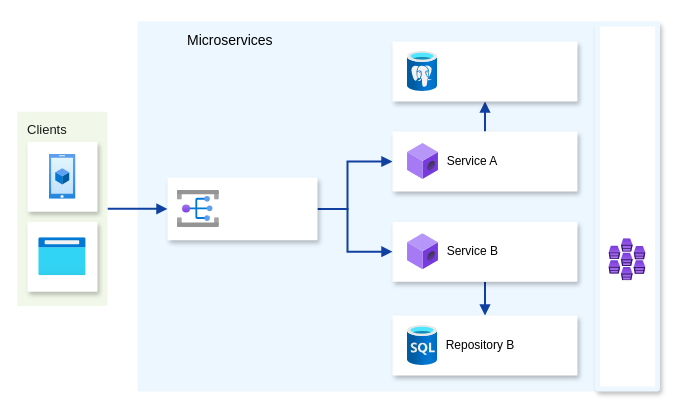
Some shapes in this 683 by 415 pixel diagram are drawn without their labels. Here are the shapes that lost their labels. From the top down, the centre of each, then its label:
the point at 422,71: Repository A
the point at 198,208: API Gateway
the point at 627,258: Orchestration
